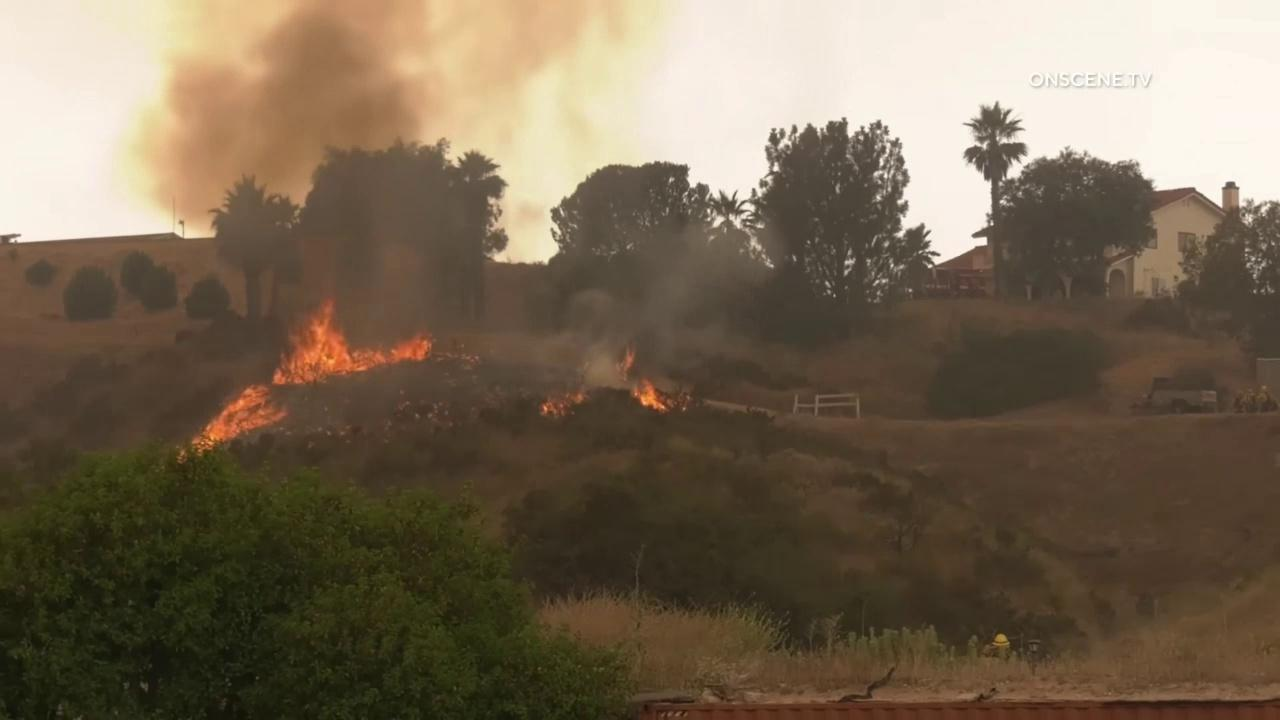fire: (174, 296, 435, 465), (630, 378, 678, 414), (539, 391, 591, 419), (617, 345, 635, 373)
smoke: (123, 0, 786, 448)
